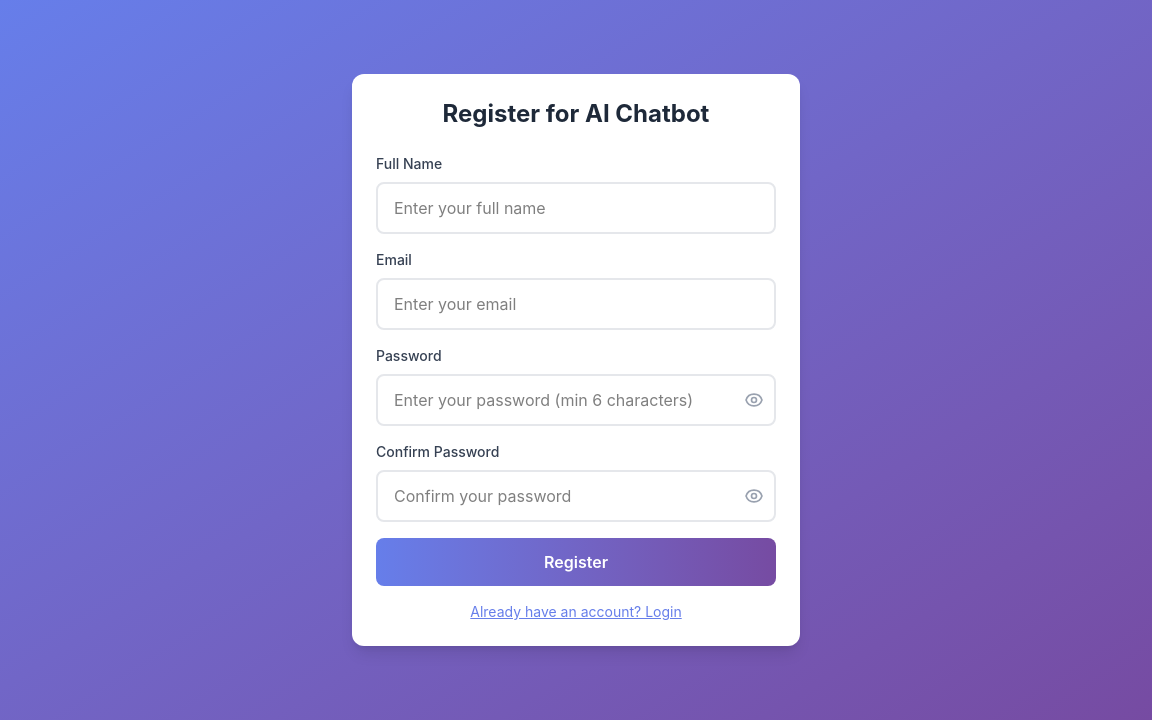
Scenario: Register Component › validates password match
# Fill form with mismatched passwords
Type "Test User" into the field labelled "Full Name" at coordinates (576, 208), box [376,182,776,234]
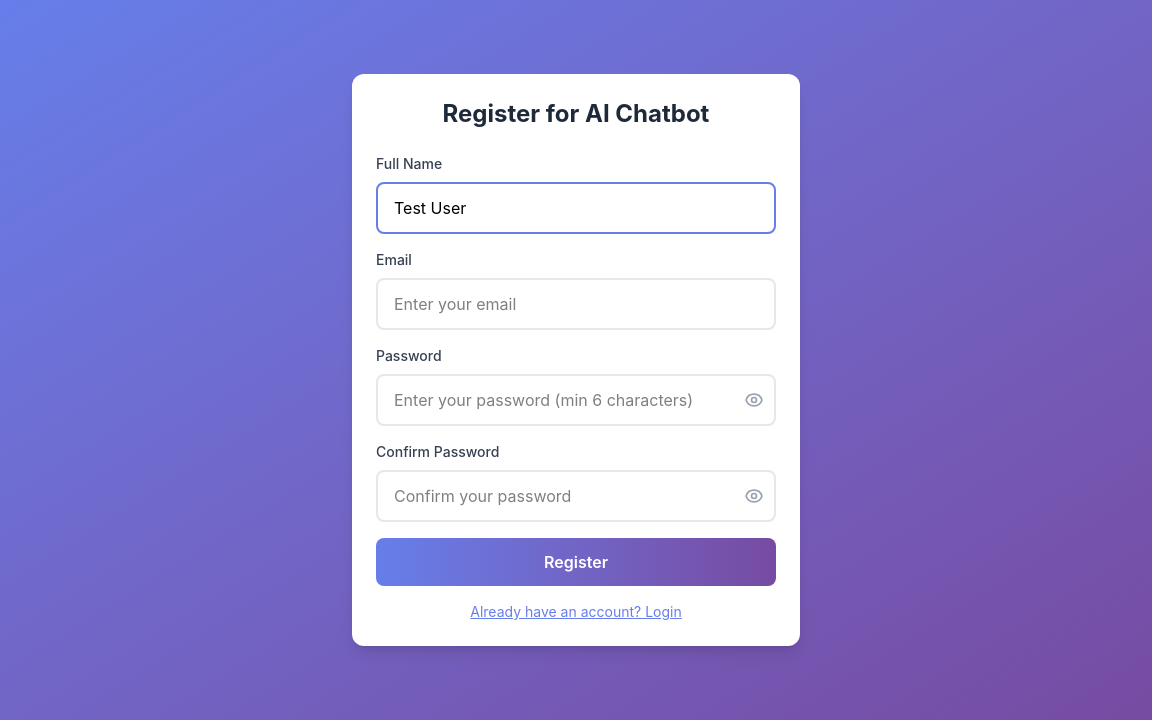
Type "test@example.com" into the field labelled "Email" at coordinates (576, 304), box [376,278,776,330]
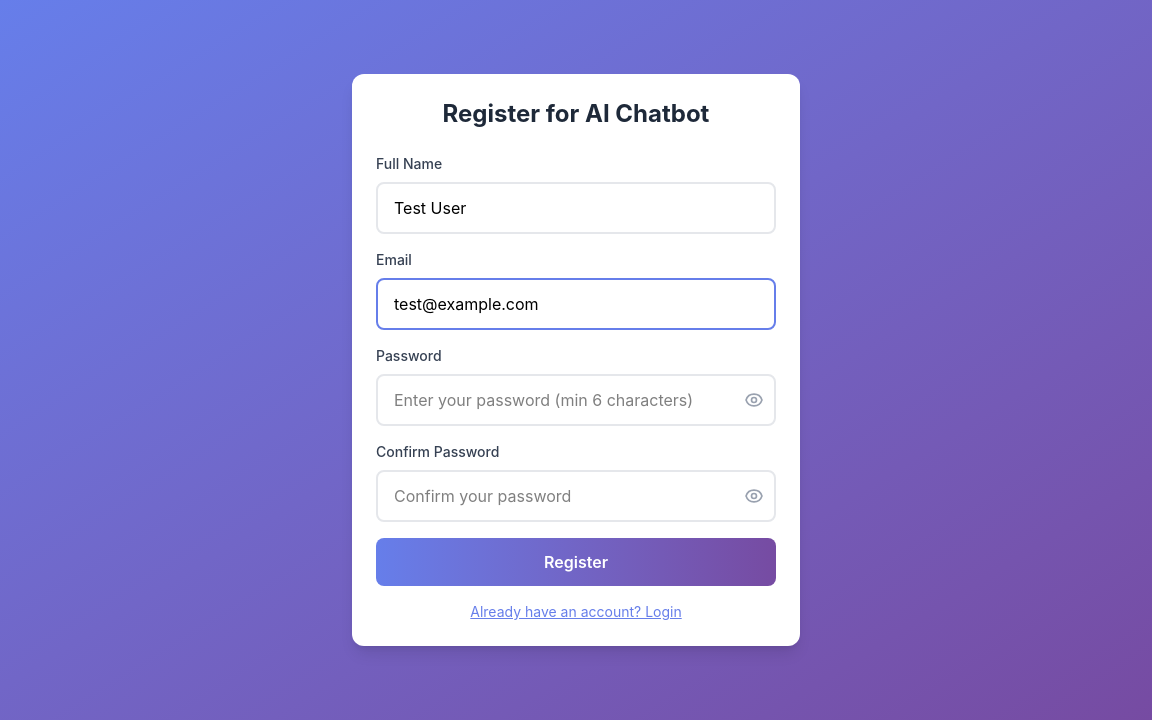
Type "password123" into the password field labelled "Password" at coordinates (576, 400), box [376,374,776,426]
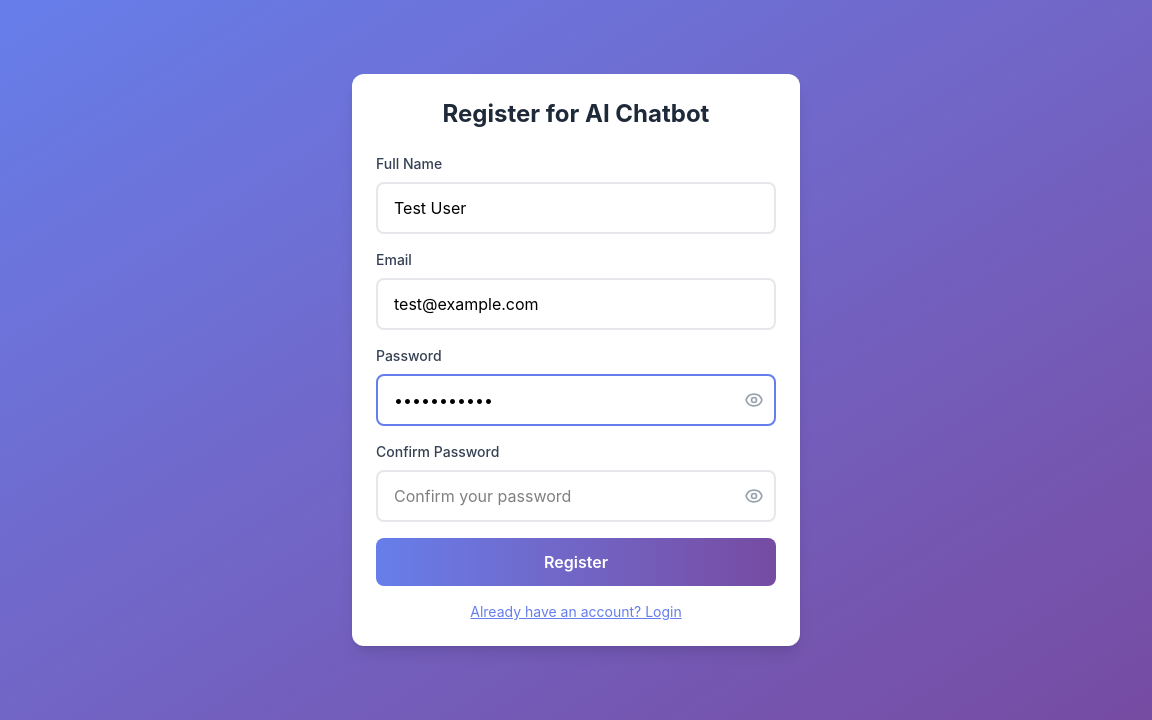
Type "different123" into the password field labelled "Confirm Password" at coordinates (576, 496), box [376,470,776,522]
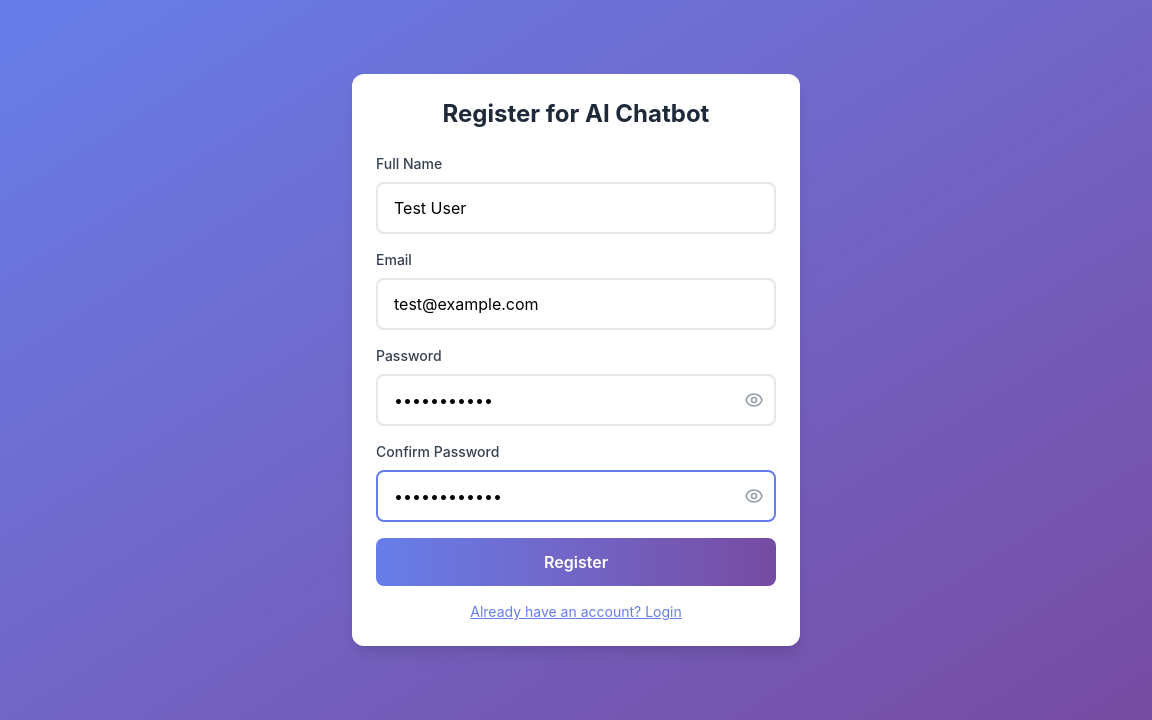
# Submit form
Click the button "Register" at coordinates (576, 562), box [376,538,776,586]
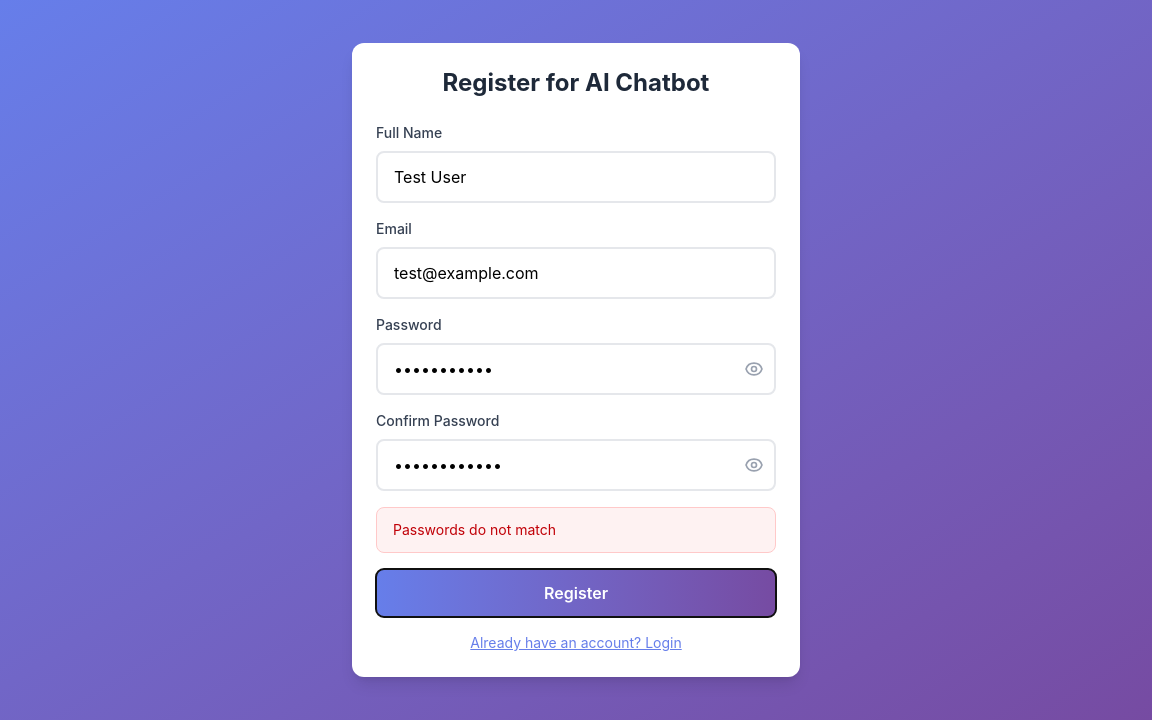
Result: the text "Passwords do not match" is shown at [376,507,776,553]
